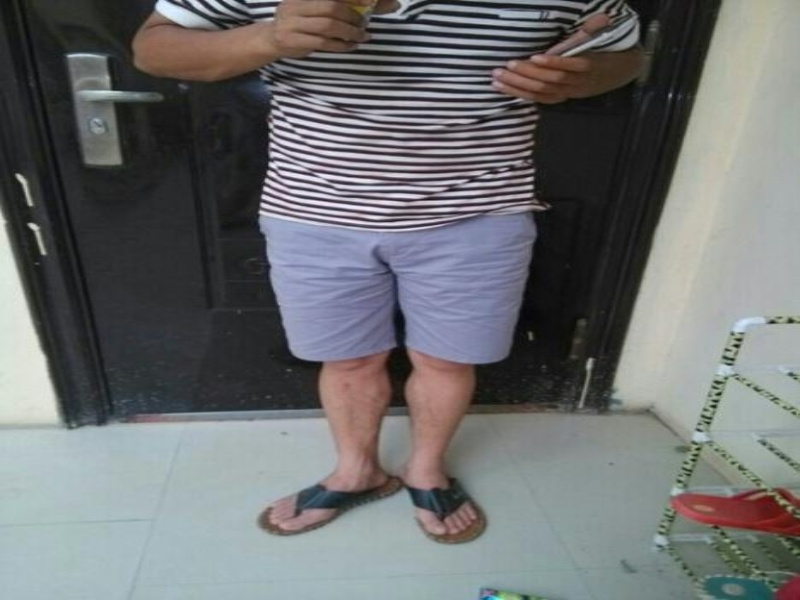short_sleeved_shirt: (147, 0, 653, 236)
shorts: (256, 182, 544, 368)
